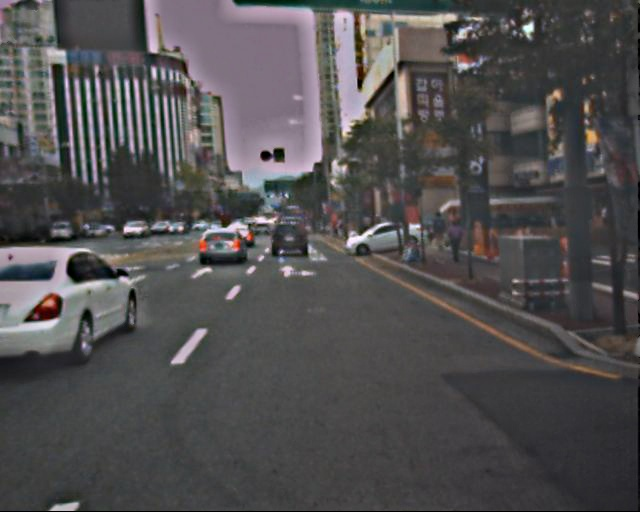person: (447, 219, 467, 267), (431, 211, 449, 254)
